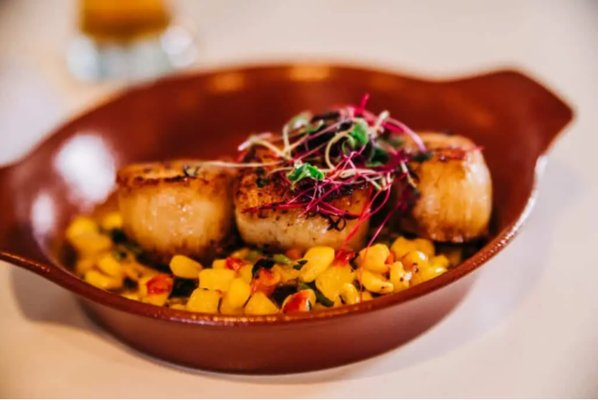sushi: (28, 55, 574, 375)
